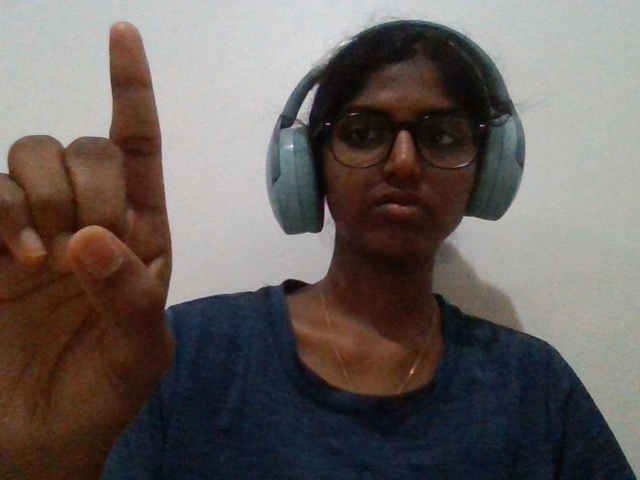D: (4, 5, 184, 474)
